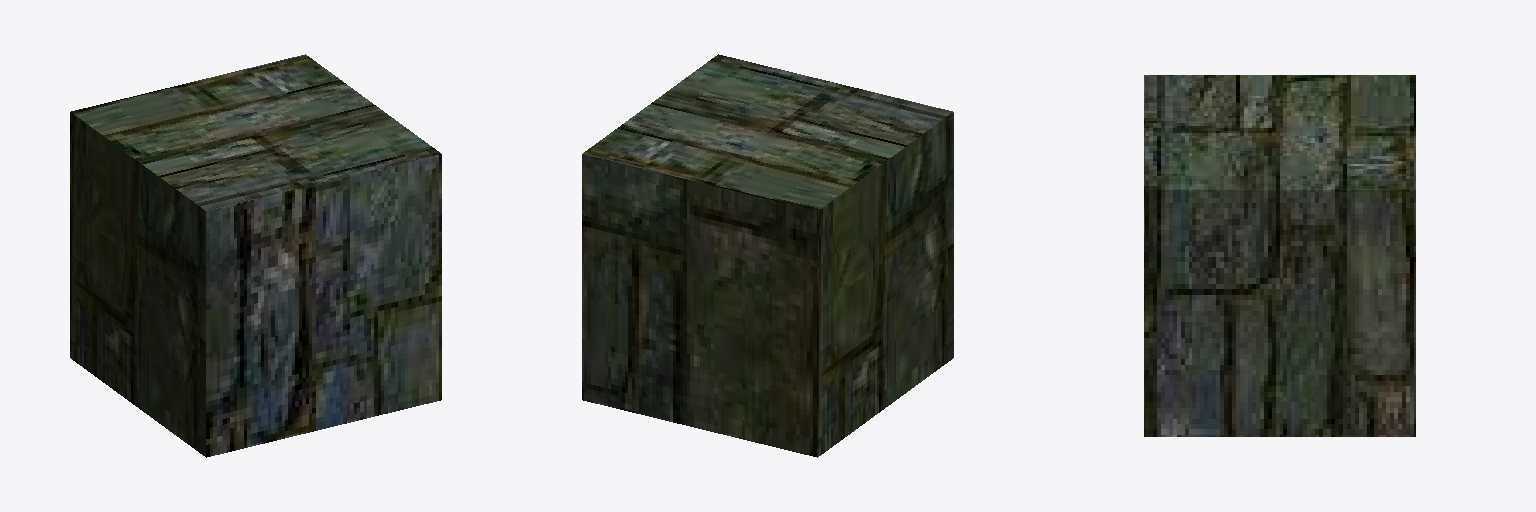
The picture shows the model from 3 angles: view 1: azimuth 30°, elevation 25°; view 2: azimuth 150°, elevation 25°; view 3: azimuth 270°, elevation 25°; orthographic projection.
Parts seen in each view (by area): view 1: 立方体; view 2: 立方体; view 3: 立方体.
Boxes of the visible parts, x1=… form: 立方体: x1=70, y1=54, x2=441, y2=457; 立方体: x1=582, y1=54, x2=953, y2=457; 立方体: x1=1144, y1=75, x2=1415, y2=436.
Bounding box in the file's own units: 2 × 2 × 2.
Materials: 1 (1 with a texture image).